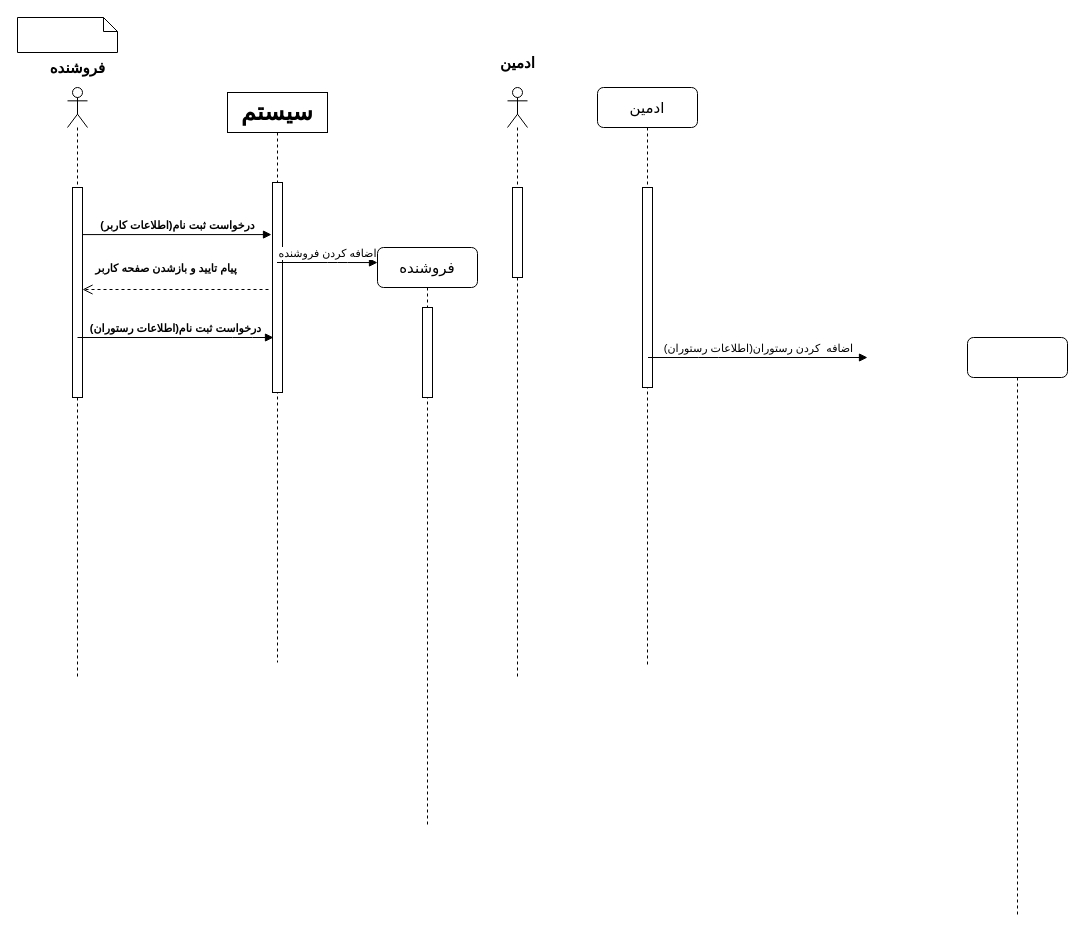
The diagram is 1085 pixels wide and 935 high, and some of its shapes have lost their labels. Each missing label, with the box of its shape:
ثبت نام رستوران: (16, 16, 118, 52)
رستوران: (966, 336, 1068, 918)
